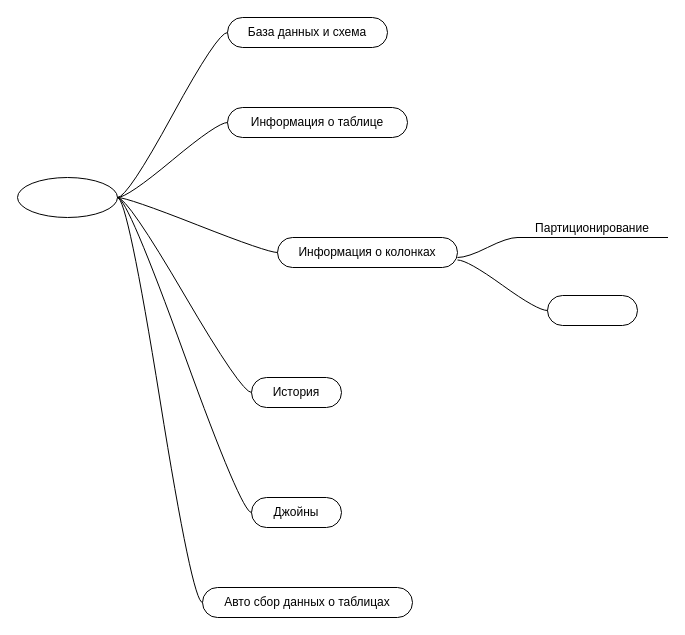
Some shapes in this 685 by 635 pixel diagram are drawn without their labels. Each missing label, with the centre of its shape:
"Data catalog" goes at point 67,197.
"Индексы" goes at point 592,310.
